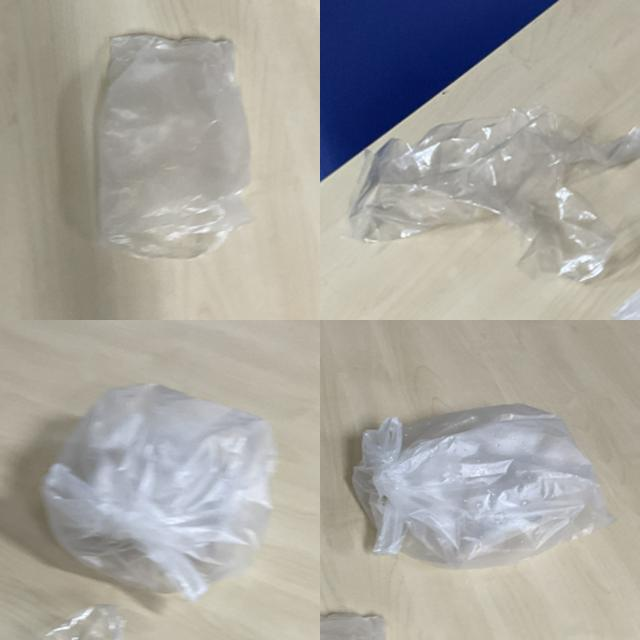Single-layer Plastic: (42, 384, 276, 601), (350, 108, 639, 281), (352, 404, 615, 569), (99, 35, 254, 259)
